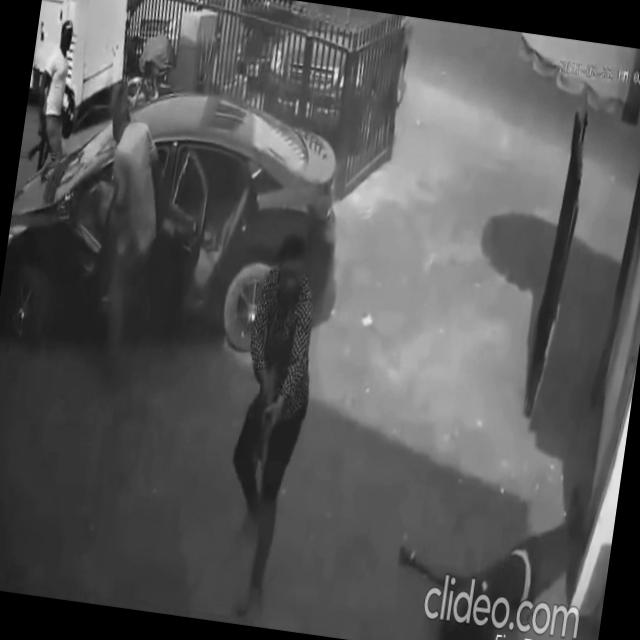gun: (244, 353, 285, 513), (26, 92, 54, 176)
person: (384, 461, 597, 640), (70, 92, 182, 394)
person with a gun: (208, 226, 334, 626), (24, 14, 90, 184)
